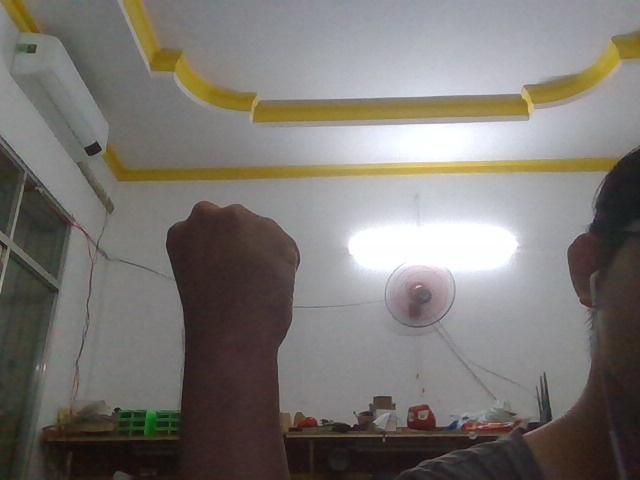fist: (137, 176, 324, 412)
